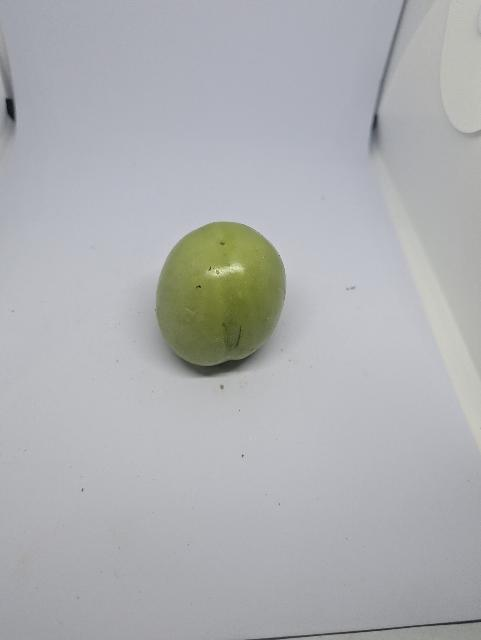green: (140, 201, 301, 387)
